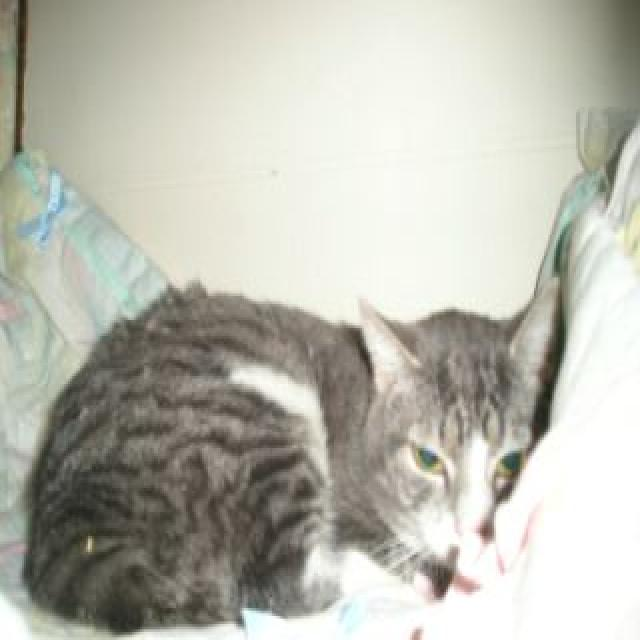Cats: (20, 275, 562, 632)
